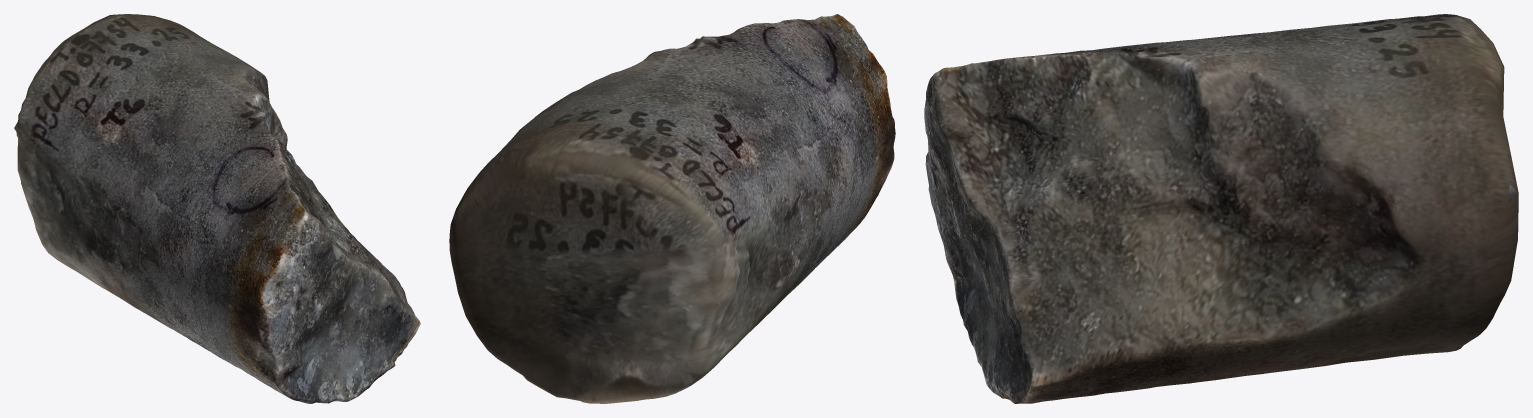
File: PECLD07754 T6.GLB
3 renders of one model, left to right at view 1: azimuth 30°, elevation 25°; view 2: azimuth 150°, elevation 25°; view 3: azimuth 270°, elevation 25°, orthographic. The views are drawn at different scales.
Parts seen in each view (by area): view 1: baked_mesh; view 2: baked_mesh; view 3: baked_mesh.
Boxes of the visible parts, x1=… form: baked_mesh: x1=14, y1=14, x2=420, y2=403; baked_mesh: x1=449, y1=14, x2=895, y2=403; baked_mesh: x1=924, y1=14, x2=1518, y2=403.
Bounding box in the file's own units: 0.2369 × 0.2321 × 0.3842.
1 material, 1 textured.
